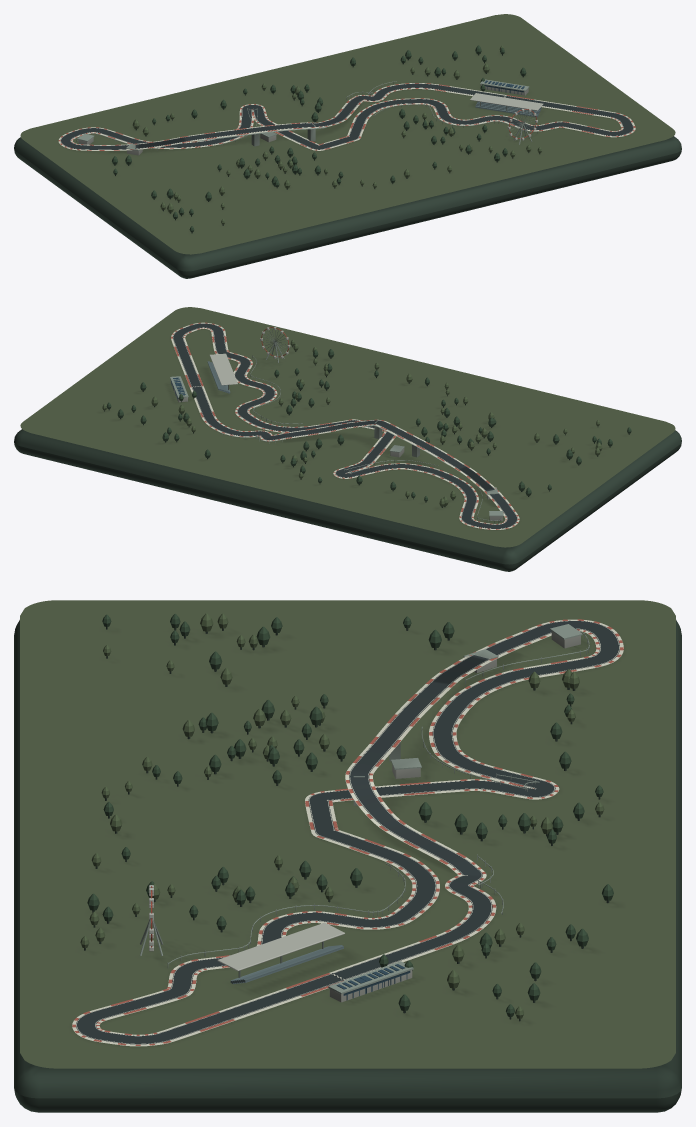
The model's file is suzuka-world.glb.
The picture shows the model from 3 angles, top to bottom: view 1: azimuth 30°, elevation 25°; view 2: azimuth 150°, elevation 25°; view 3: azimuth 270°, elevation 25°; orthographic projection. The views are drawn at different scales.
Visible parts, largest first — view 1: Ground - baked studio surface, Solid terrain plinth, strip-road, strip-curb, Instances-tree, Instances-trim, Instances-tree2, Instances-building, Painted kerbs.001, Painted kerbs, strip-curb.002, strip-curb.001 (+1 smaller); view 2: Ground - baked studio surface, Solid terrain plinth, strip-road, Instances-tree, strip-curb, Instances-trim, Instances-tree2, Instances-building, Painted kerbs.001, Painted kerbs, strip-curb.002, strip-curb.001; view 3: Ground - baked studio surface, Solid terrain plinth, strip-road, Instances-tree, strip-curb, Instances-tree2, Instances-building, Instances-trim, Painted kerbs.001, Painted kerbs, strip-curb.002, strip-curb.001 (+2 smaller).
Boxes of the visible parts, x1,y1,x2,y2 form: Ground - baked studio surface: [20, 14, 675, 254]; Solid terrain plinth: [14, 136, 681, 278]; strip-road: [60, 83, 633, 149]; strip-curb: [58, 83, 635, 150]; Instances-tree: [112, 45, 526, 232]; Instances-trim: [76, 79, 537, 150]; Instances-tree2: [132, 45, 541, 224]; Instances-building: [78, 84, 543, 155]; Painted kerbs.001: [71, 83, 635, 150]; Painted kerbs: [58, 88, 623, 150]; strip-curb.002: [70, 83, 633, 149]; strip-curb.001: [60, 87, 623, 149]; Ground - baked studio surface: [20, 307, 675, 547]; Solid terrain plinth: [14, 429, 681, 571]; strip-road: [172, 323, 517, 528]; Instances-tree: [106, 349, 631, 501]; strip-curb: [171, 322, 519, 529]; Instances-trim: [170, 328, 503, 522]; Instances-tree2: [102, 339, 602, 506]; Instances-building: [170, 327, 502, 520]; Painted kerbs.001: [171, 322, 506, 524]; Painted kerbs: [183, 328, 519, 529]; strip-curb.002: [173, 323, 507, 524]; strip-curb.001: [182, 327, 517, 528]; Ground - baked studio surface: [20, 600, 675, 1068]; Solid terrain plinth: [14, 620, 681, 1112]; strip-road: [76, 620, 619, 1044]; Instances-tree: [87, 613, 613, 1016]; strip-curb: [72, 619, 623, 1046]; Instances-tree2: [80, 613, 604, 1018]; Instances-building: [149, 631, 580, 1002]; Instances-trim: [140, 624, 589, 994]; Painted kerbs.001: [72, 629, 599, 1045]; Painted kerbs: [96, 619, 623, 1035]; strip-curb.002: [76, 628, 600, 1043]; strip-curb.001: [95, 620, 619, 1036].
Bounding box in the file's own units: 114 × 12.6 × 68.
